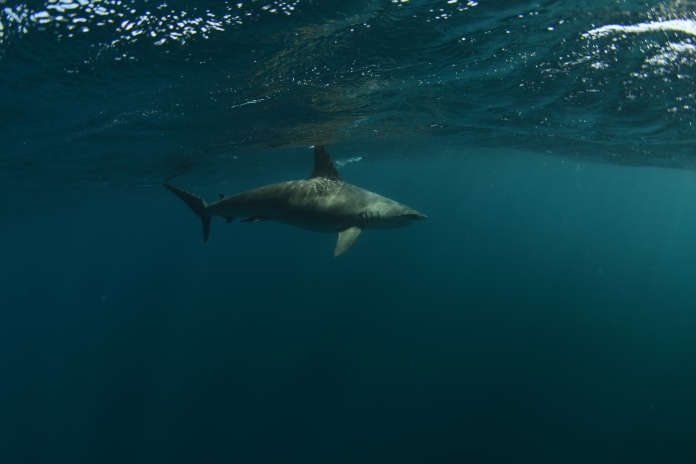Hammer: (135, 136, 441, 266)
